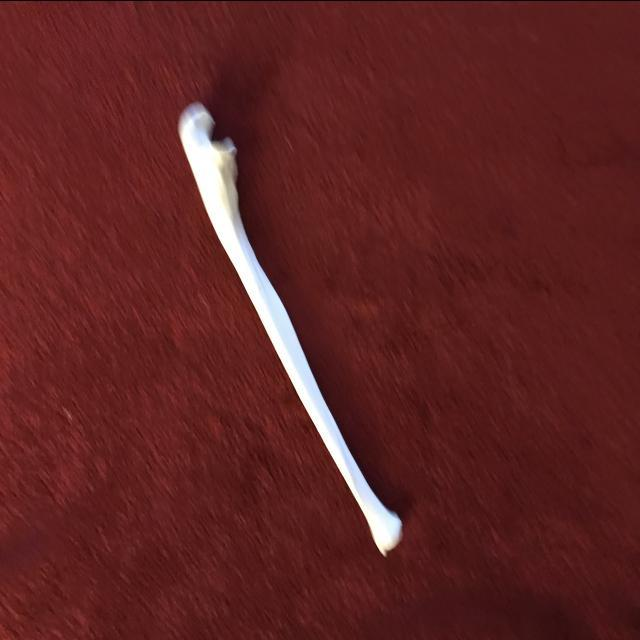bone: (174, 97, 404, 563)
